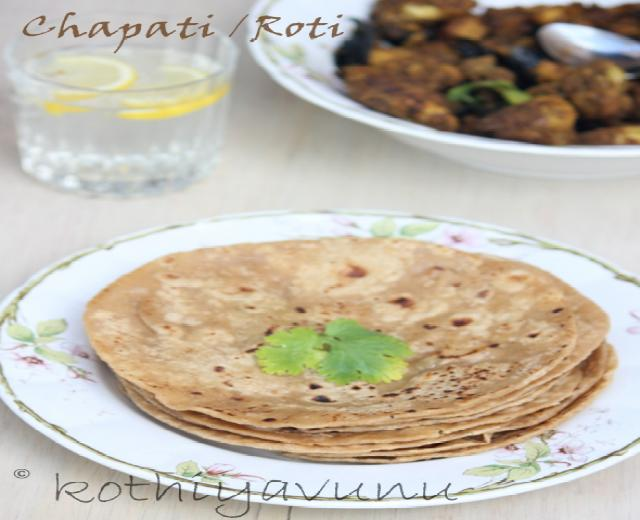chapati: (85, 238, 615, 462)
